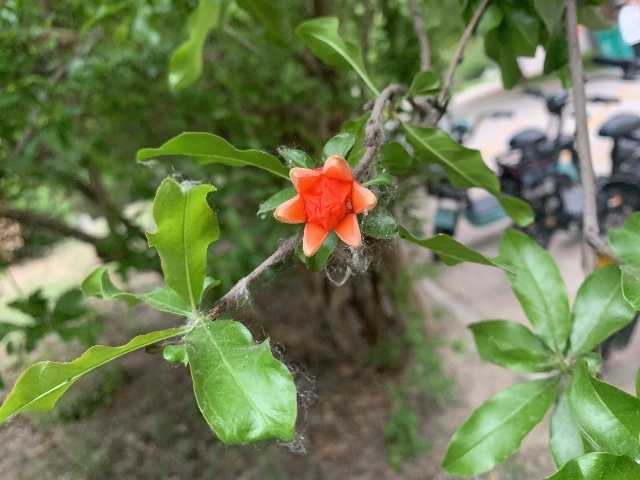flower: (274, 153, 376, 256)
